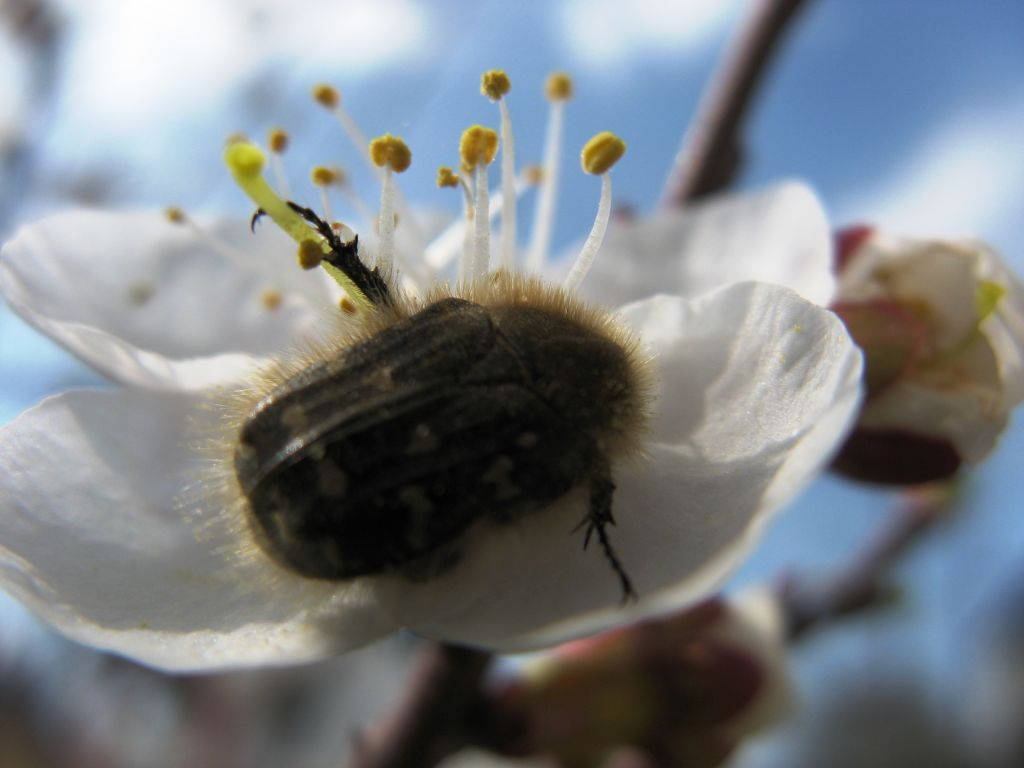Tropinota_hirta: (171, 236, 690, 661)
